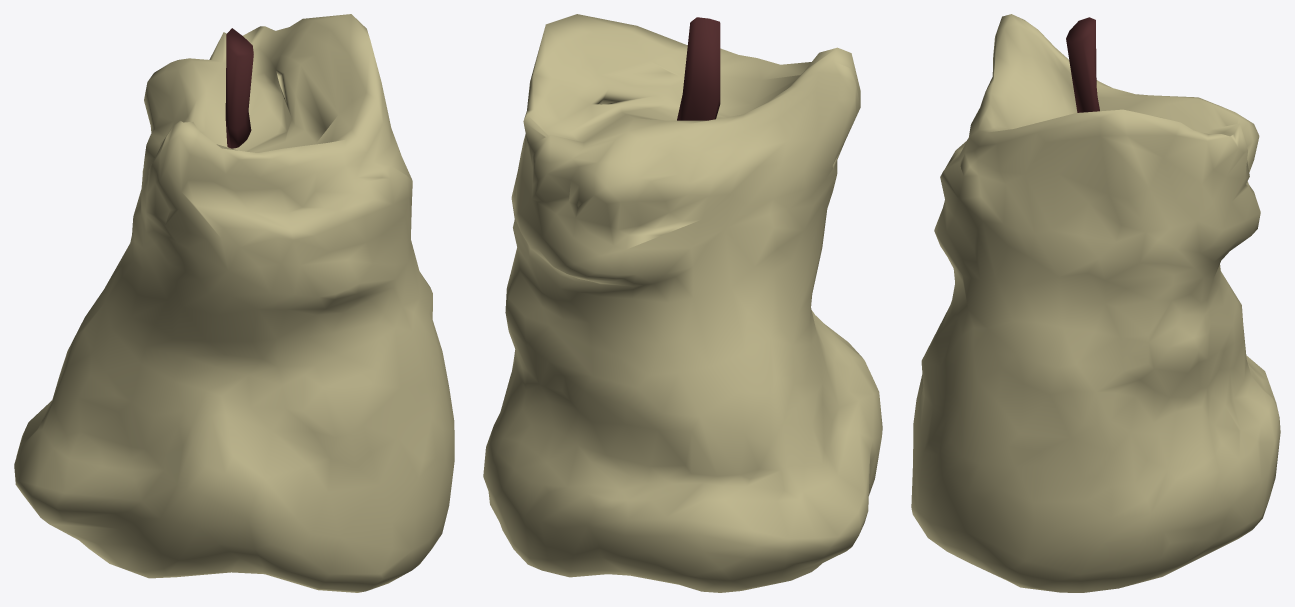
File: candle3.fbx
The picture shows the model from 3 angles, left to right: view 1: azimuth 30°, elevation 25°; view 2: azimuth 150°, elevation 25°; view 3: azimuth 270°, elevation 25°; orthographic projection. The views are drawn at different scales.
Visible parts, largest first — view 1: candle3; view 2: candle3; view 3: candle3.
Boxes of the visible parts, left/top/right/bottom form: candle3: left=14, top=14, right=454, bottom=592; candle3: left=483, top=14, right=882, bottom=592; candle3: left=911, top=14, right=1280, bottom=592.
Size of the model in its own units: 83.61 by 116 by 77.42.
